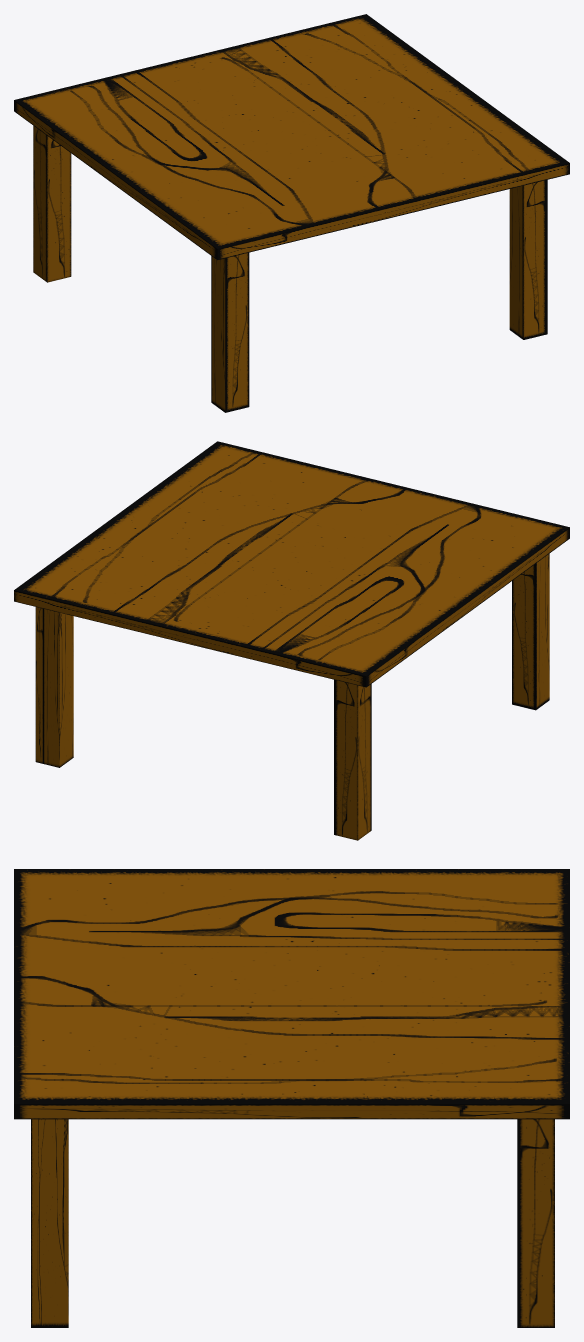
The model's file is woodtable.obj.
3 renders of one model, top to bottom at view 1: azimuth 30°, elevation 25°; view 2: azimuth 150°, elevation 25°; view 3: azimuth 270°, elevation 25°, orthographic. The views are drawn at different scales.
Parts seen in each view (by area): view 1: woodtable; view 2: woodtable; view 3: woodtable.
Boxes of the visible parts, bbox=[...] form: woodtable: bbox=[14, 14, 569, 412]; woodtable: bbox=[14, 441, 569, 840]; woodtable: bbox=[14, 869, 569, 1327].
Bounding box in the file's own units: 6.11 × 2.85 × 6.11.
